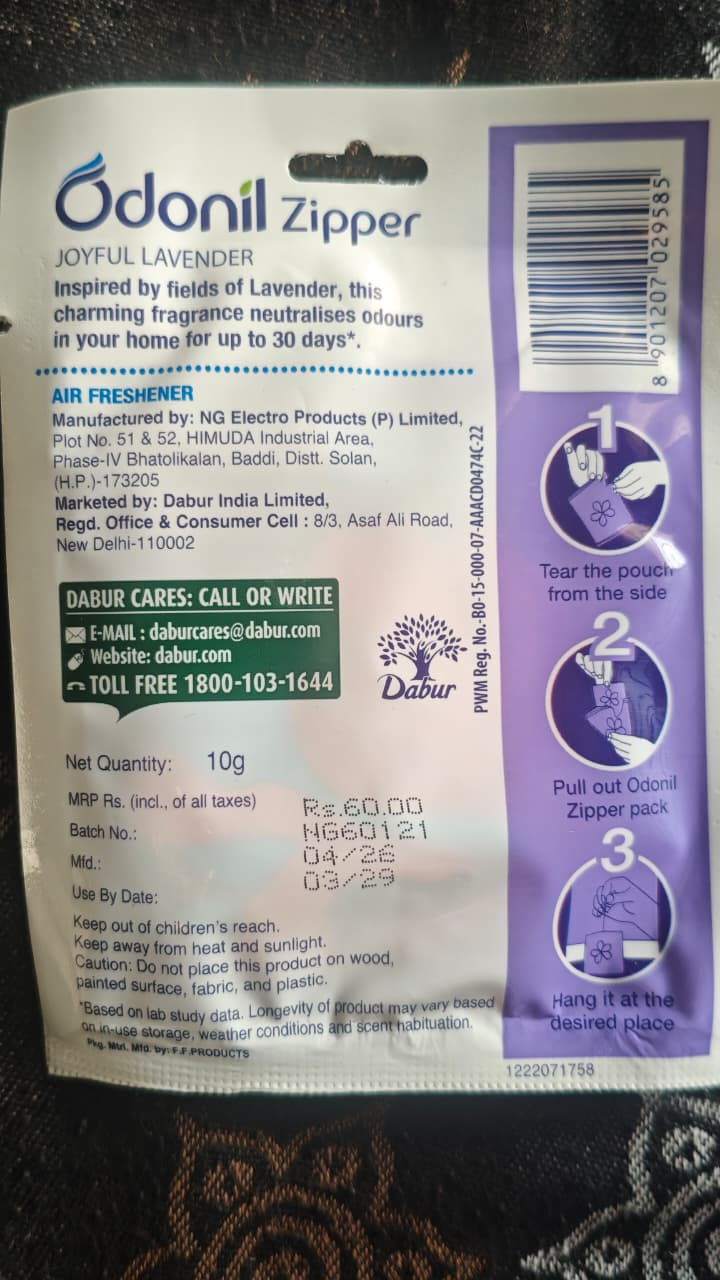Brand: (48, 152, 278, 242)
EXP_Date: (302, 866, 412, 901)
MFG_Date: (298, 844, 407, 867)
MRP: (296, 790, 426, 818)
